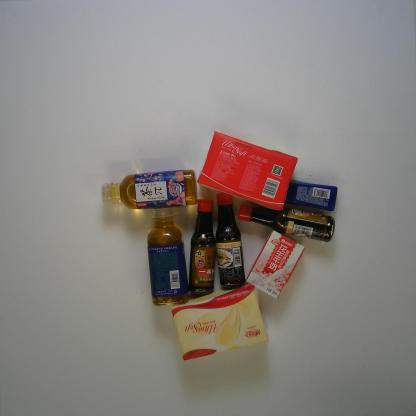Drink: (146, 208, 190, 306), (100, 169, 198, 209)
Milk: (246, 230, 306, 300)
Personal Hygiene: (285, 179, 338, 212)
Seasoner: (238, 203, 335, 243), (215, 191, 247, 290), (187, 198, 216, 295)
Tissue: (197, 130, 298, 212), (170, 282, 269, 361)
